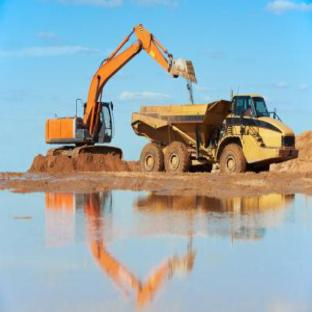ExcavationMachinery: (39, 22, 192, 188)
